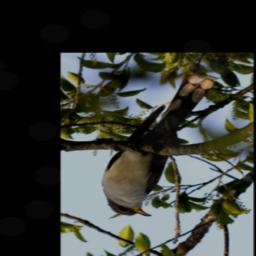Cuckoo: (102, 74, 215, 217)
